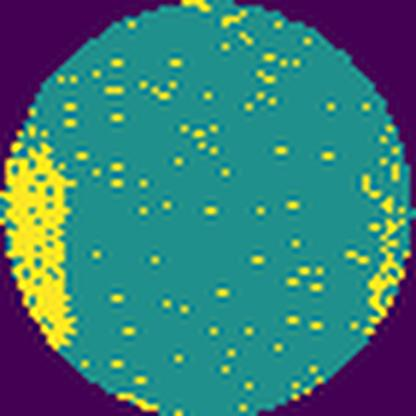Edge-Loc: (0, 118, 80, 355)
